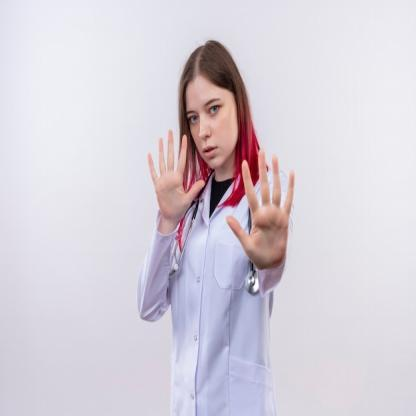stop: (220, 144, 298, 277), (145, 126, 206, 225)
